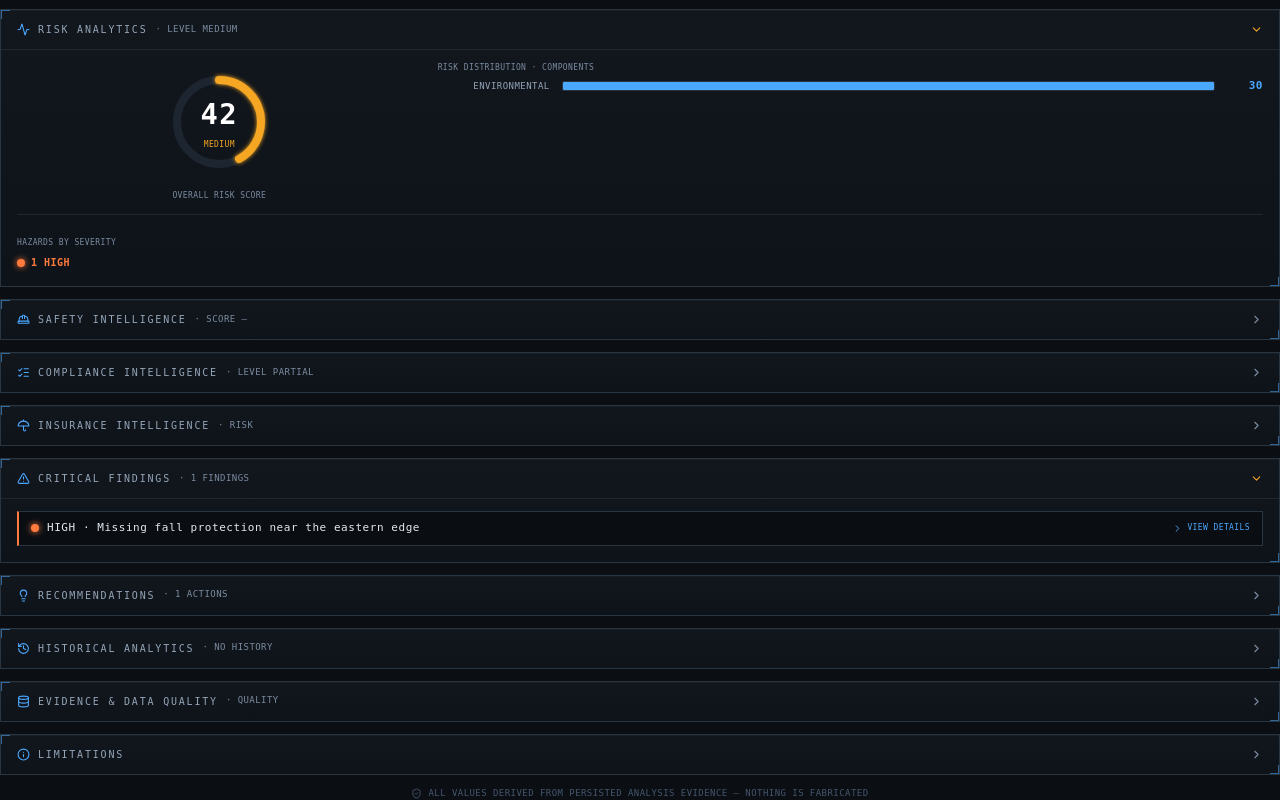
Test case: ReportSections › renders prioritized actions and critical findings
(page scrolled)
Expected: the text "HIGH · Missing fall protection near the eastern edge" is shown, [47,520,420,536]
Step 1. Click the button "RECOMMENDATIONS · 1 ACTIONS" → (97, 595), box [1,576,1279,614]
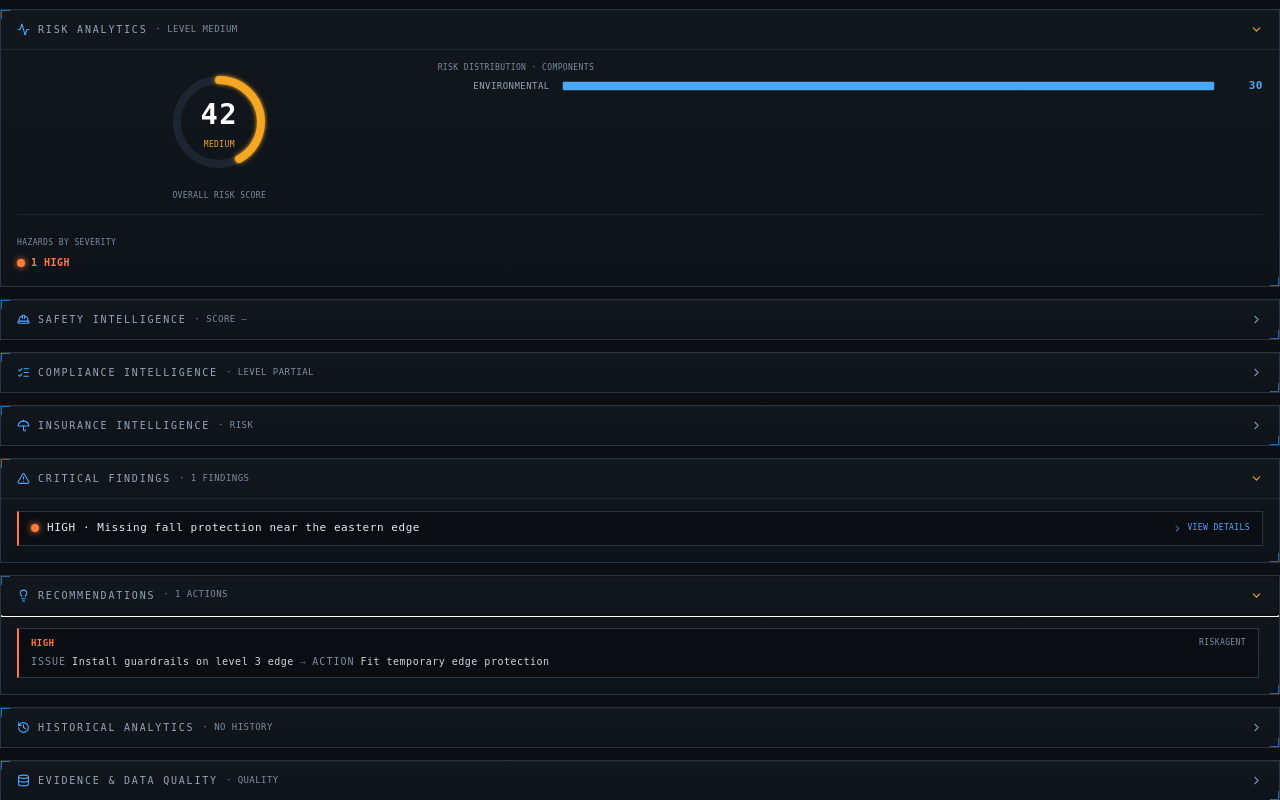
Expected: the text "Install guardrails on level 3 edge" is shown, [72,654,294,669]
